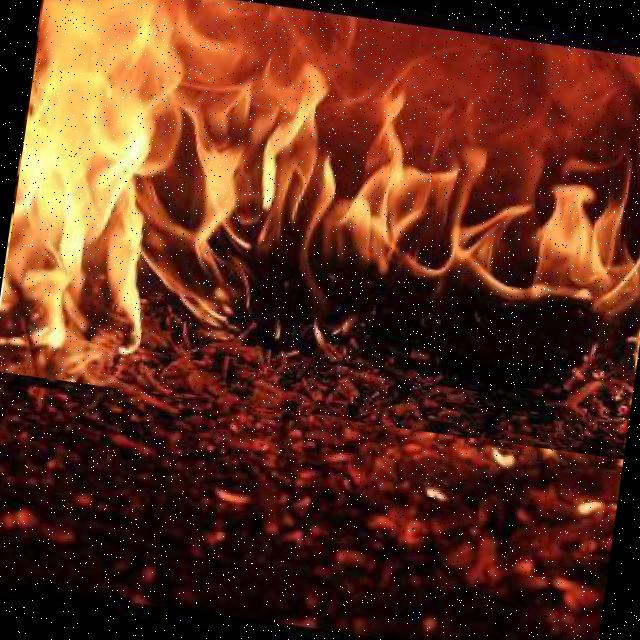fire: (0, 0, 640, 459)
